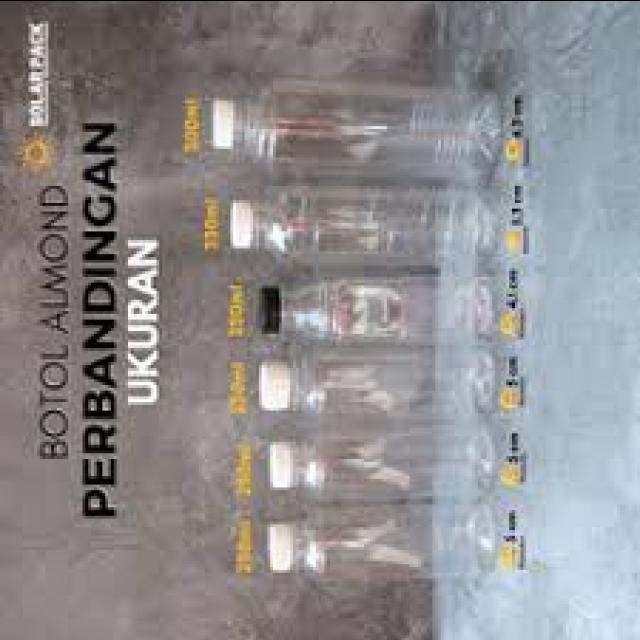寶特瓶: (250, 330, 530, 430), (249, 265, 507, 349)
